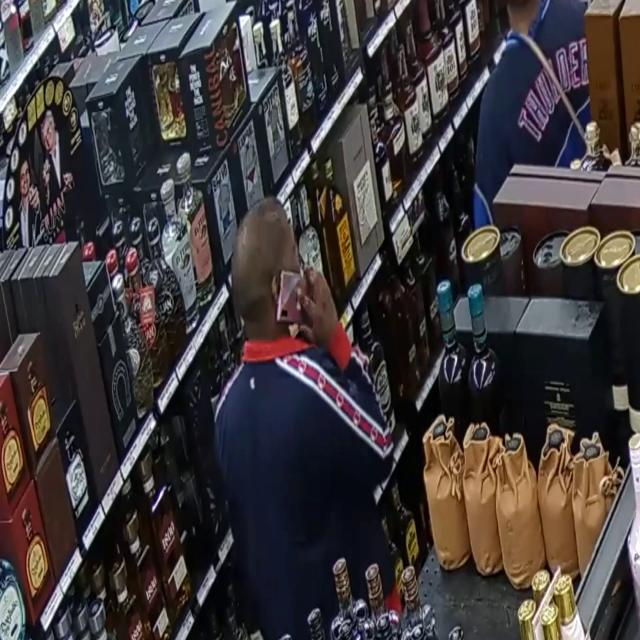normal: (199, 220, 399, 640), (444, 0, 615, 362)
